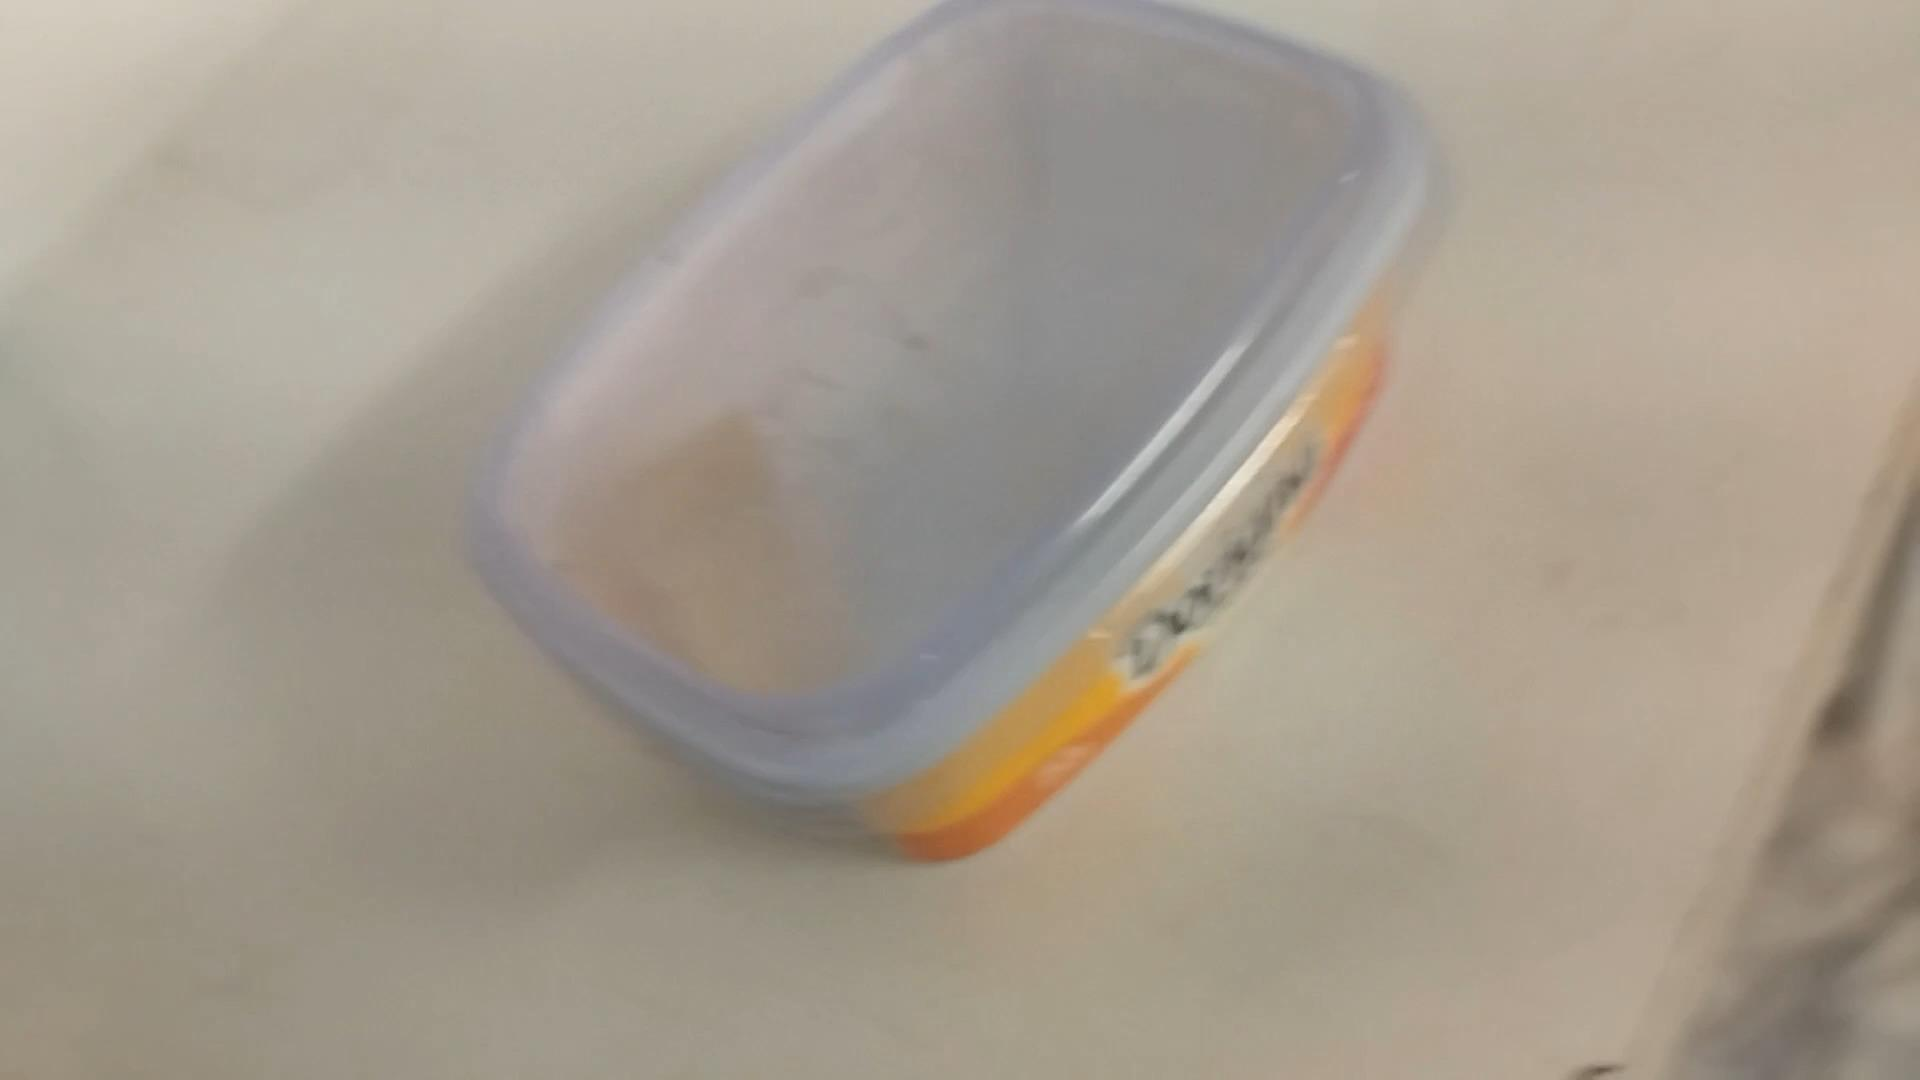butter: (454, 0, 1439, 876)
